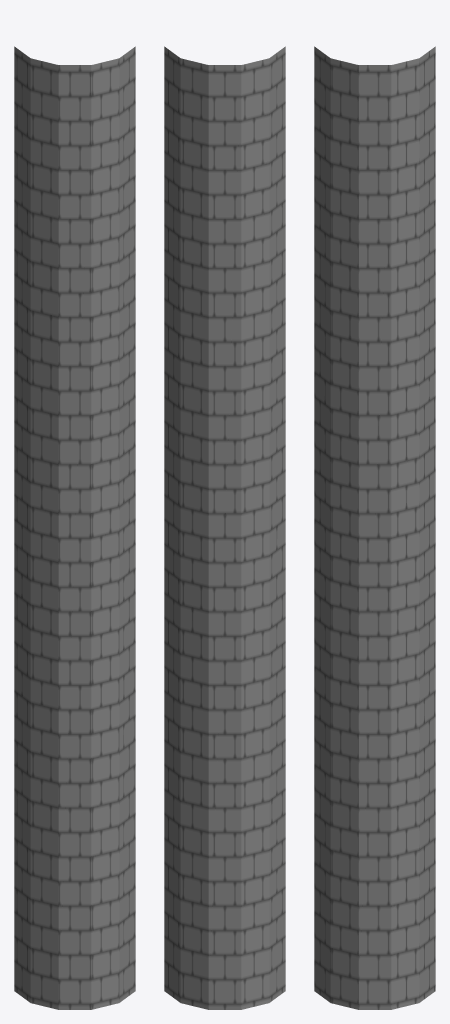
File: Tower3.glb
The picture shows the model from 3 angles, left to right: view 1: azimuth 30°, elevation 25°; view 2: azimuth 150°, elevation 25°; view 3: azimuth 330°, elevation 25°; orthographic projection.
Visible parts, largest first — view 1: circle; view 2: circle; view 3: circle.
Part boxes in pixels (x1=…): circle: x1=14, y1=46, x2=135, y2=1009; circle: x1=164, y1=46, x2=285, y2=1009; circle: x1=314, y1=46, x2=435, y2=1009.
Size of the model in its own units: 1.62 by 14 by 1.62.
1 material, 1 textured.
